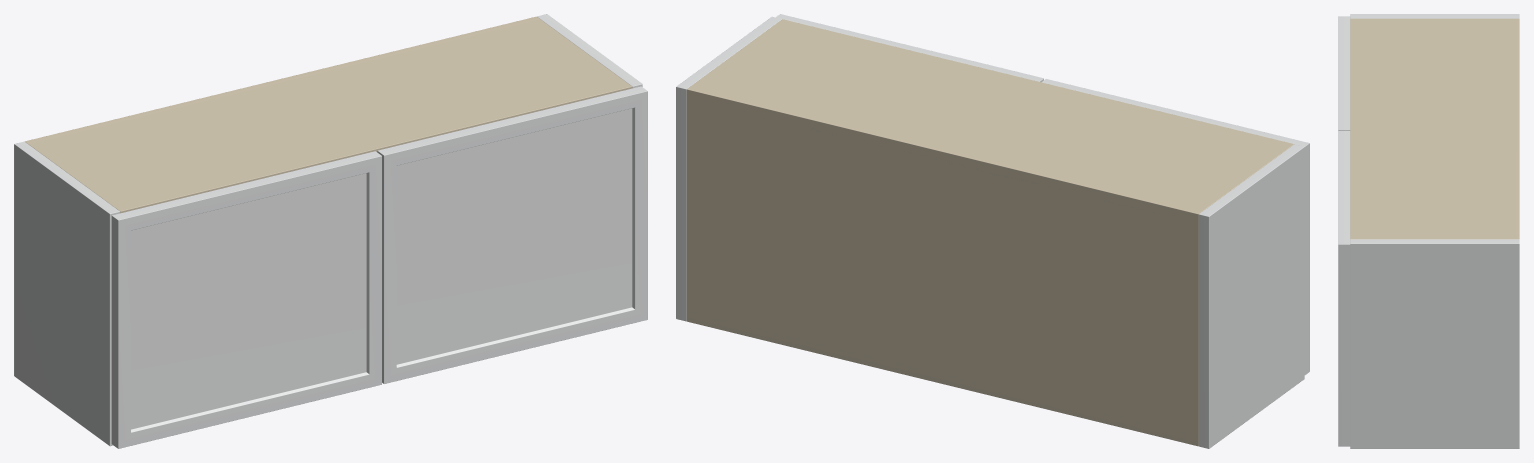
The model's file is oppein-ply-ssw-w3615.glb.
3 views of the same model, side by side, from view 1: azimuth 30°, elevation 25°; view 2: azimuth 150°, elevation 25°; view 3: azimuth 270°, elevation 25° (orthographic). The views are drawn at different scales.
Parts seen in each view (by area): view 1: Door, Door.001, Cabinet top, Cabinet side, Cabinet back, Cabinet side.001; view 2: Cabinet back, Cabinet top, Cabinet side, Cabinet bottom, Cabinet side.001, Door, Door.001; view 3: Cabinet top, Cabinet side.001, Door.001, Cabinet back, Door, Cabinet side.
Boxes of the visible parts, bbox=[...] form: Door: bbox=[111, 151, 381, 448]; Door.001: bbox=[377, 86, 647, 383]; Cabinet top: bbox=[25, 17, 632, 213]; Cabinet side: bbox=[14, 141, 120, 446]; Cabinet back: bbox=[25, 16, 539, 143]; Cabinet side.001: bbox=[537, 14, 642, 88]; Cabinet back: bbox=[686, 86, 1201, 445]; Cabinet top: bbox=[687, 19, 1293, 224]; Cabinet side: bbox=[1198, 144, 1304, 448]; Cabinet bottom: bbox=[686, 312, 1198, 446]; Cabinet side.001: bbox=[676, 16, 781, 321]; Door: bbox=[1041, 79, 1309, 374]; Door.001: bbox=[776, 14, 1043, 82]; Cabinet top: bbox=[1350, 18, 1519, 239]; Cabinet side.001: bbox=[1350, 239, 1519, 448]; Door.001: bbox=[1338, 131, 1350, 446]; Cabinet back: bbox=[1513, 18, 1519, 238]; Door: bbox=[1338, 16, 1350, 130]; Cabinet side: bbox=[1350, 14, 1519, 18].
Bounding box in the file's own units: 0.9144 × 0.381 × 0.3048.
